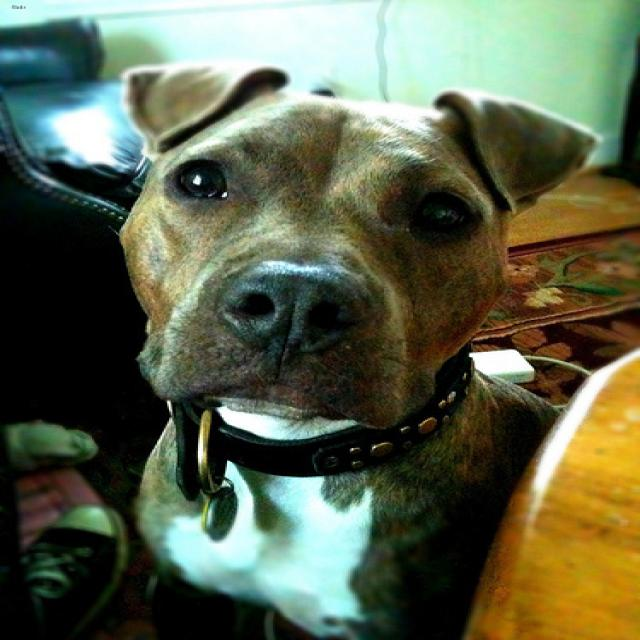dog-american_pit_bull_terrier: (108, 47, 613, 637)
